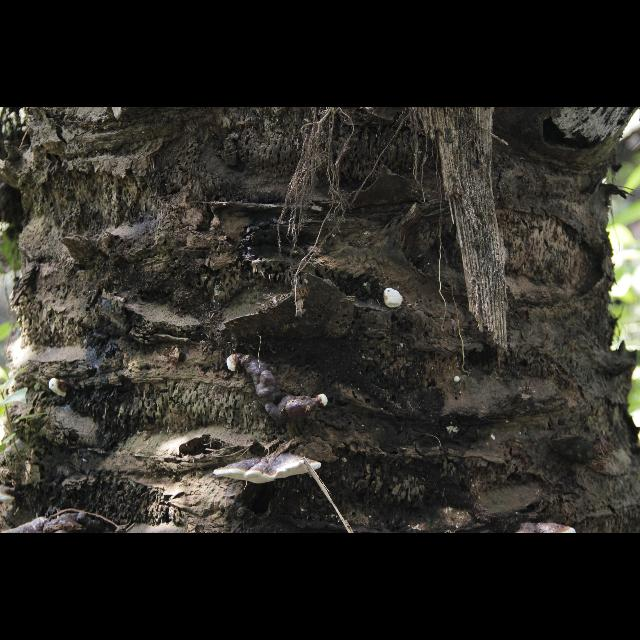ganoderma: (244, 354, 319, 424), (214, 453, 323, 485), (514, 522, 578, 535)
primordium: (384, 288, 405, 310), (50, 378, 71, 399), (227, 354, 243, 373), (317, 395, 329, 410), (455, 377, 462, 385)
